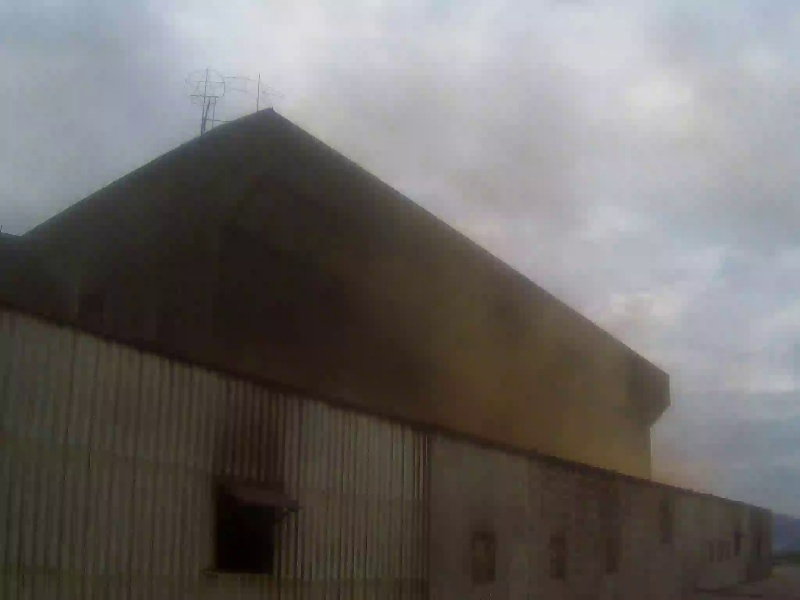Pessimo: (376, 209, 672, 475)
